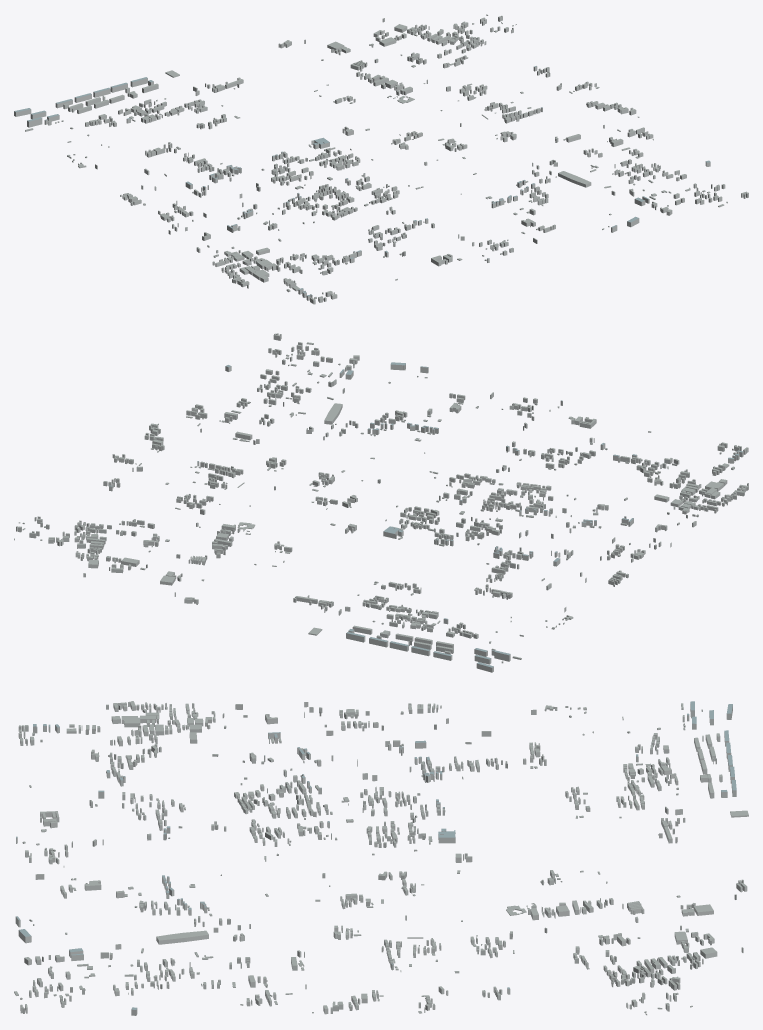
Rendered from far.glb.
3 renders of one model, top to bottom at view 1: azimuth 30°, elevation 25°; view 2: azimuth 150°, elevation 25°; view 3: azimuth 270°, elevation 25°, orthographic. The views are drawn at different scales.
Bounding box in the file's own units: 2112 × 25.26 × 2110.
